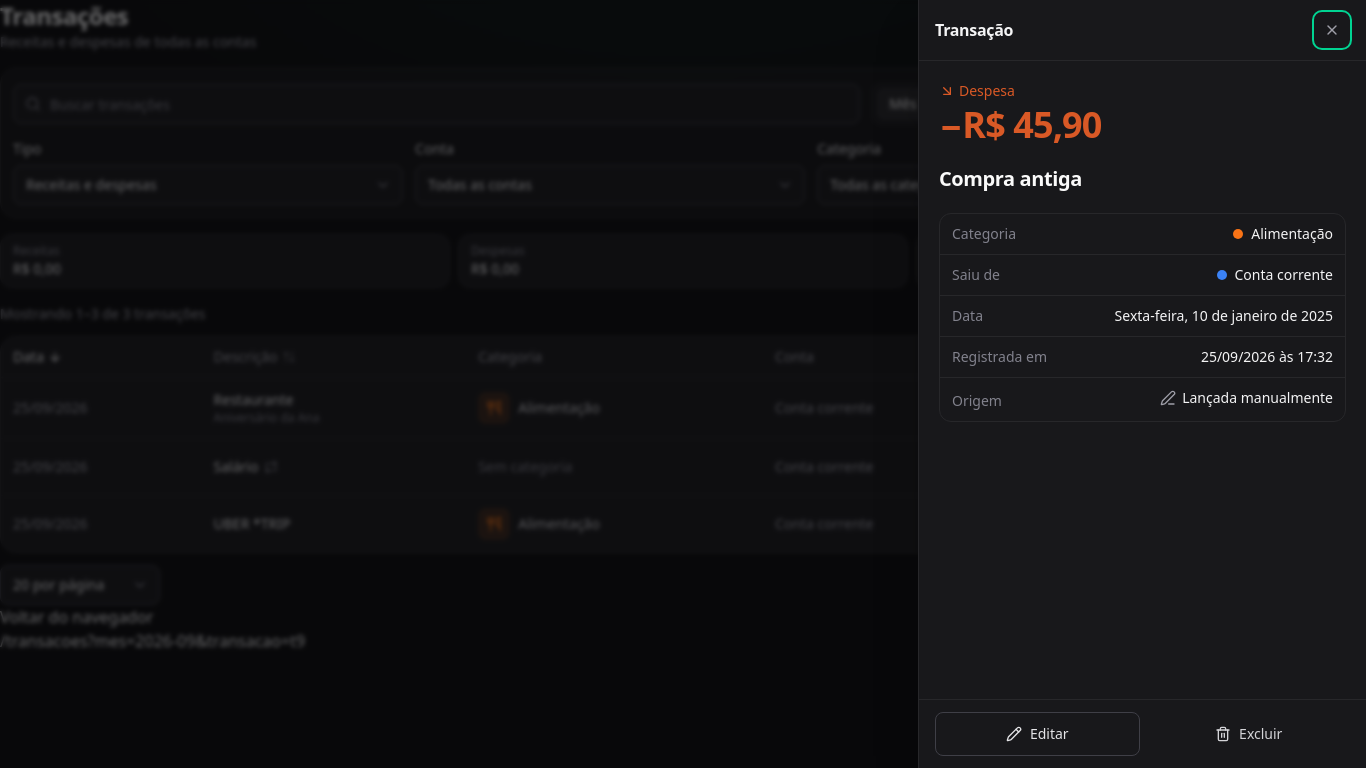
Scenario: transaction detail drawer › opens from a shared link, even for a transaction outside the current page
Expected: the dialog named "Detalhes da transação: Compra antiga" is shown, [918,0,1365,767]
Note: Nothing of ours in the history: closing removes the parameter and stays on the page
What coordinates should you click on to do the following:
click the button named "Fechar"
I would click on:
 (1332, 30)
Its box is [1314,12,1350,48].
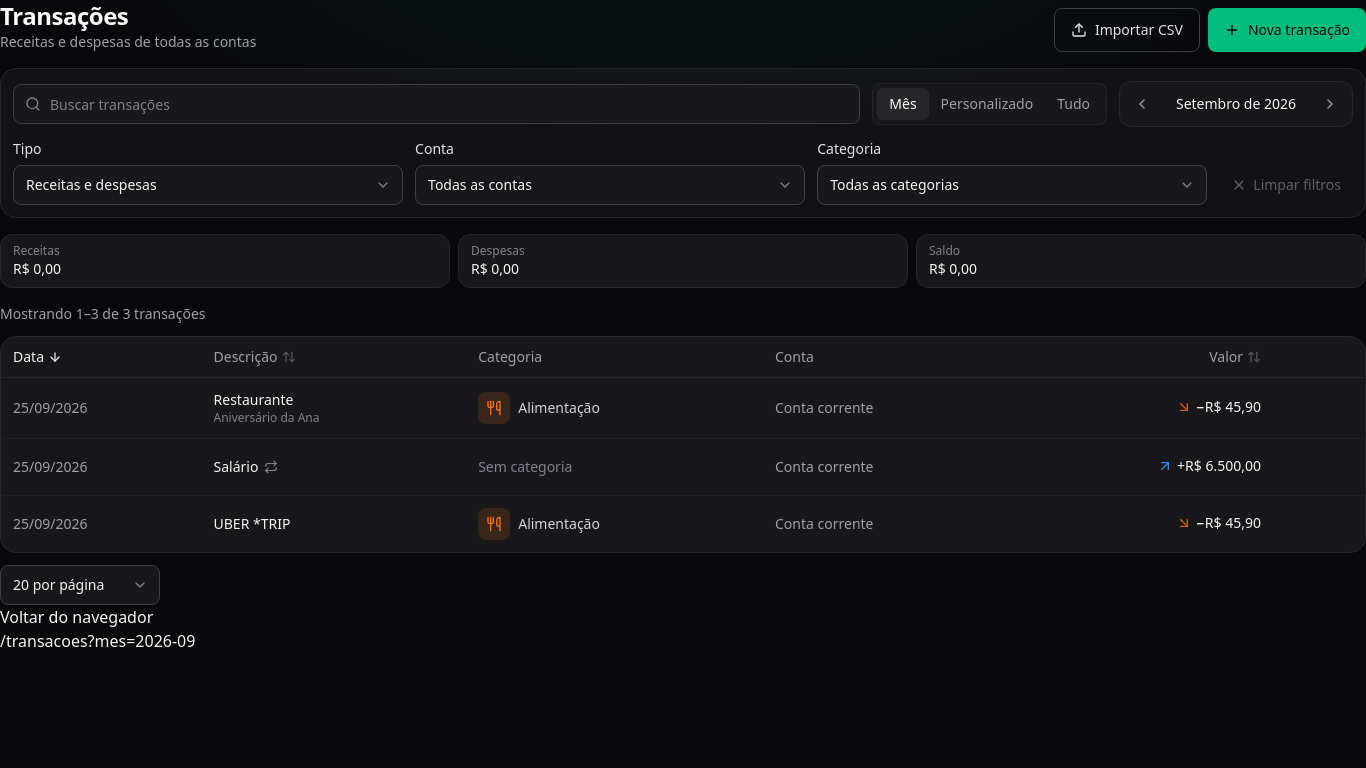
Result: the text with test id "location" reads "/transacoes?mes=2026-09" at [0,630,195,652]
